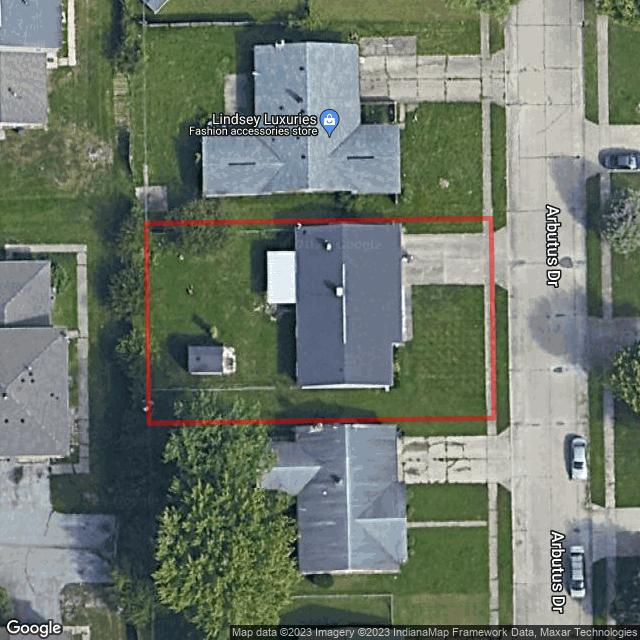Driveway: (401, 234, 488, 341)
Extra Driveway: (495, 228, 508, 287)
Extra Lawn: (497, 285, 510, 414), (398, 421, 486, 437)
House: (295, 224, 401, 388)
Other: (268, 251, 296, 303), (188, 347, 236, 375)
